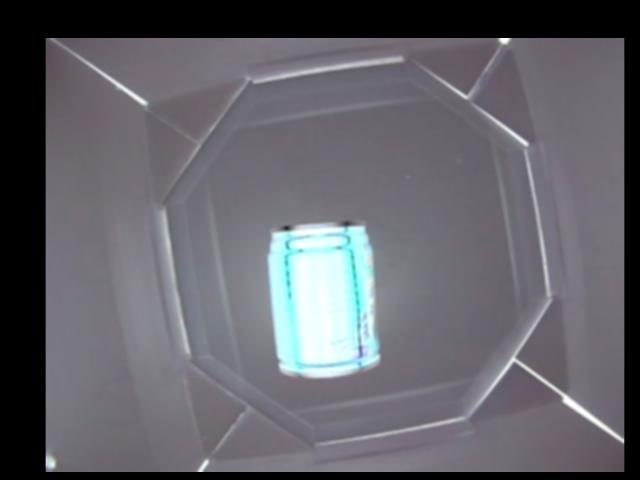Bottle: (264, 220, 382, 382)
